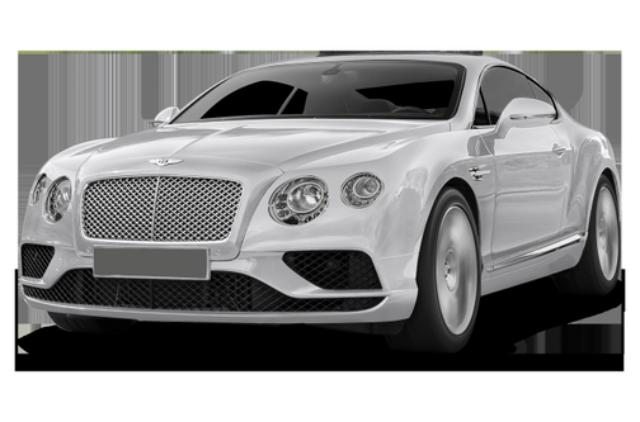bentley: (19, 50, 622, 354)
